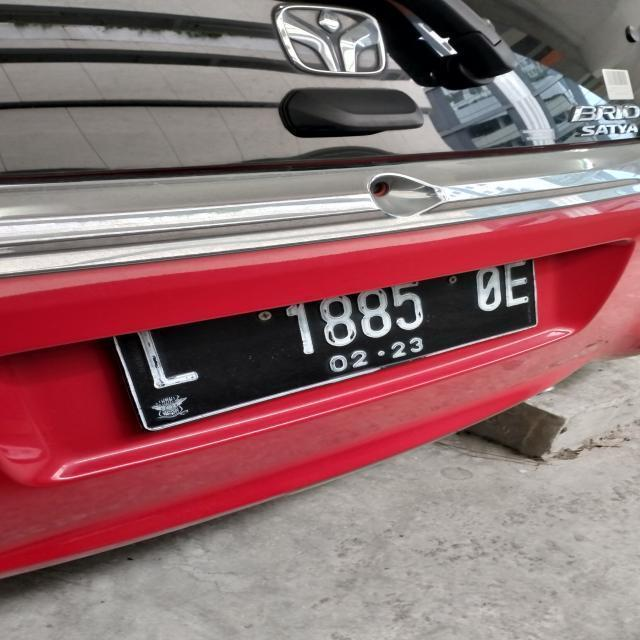1: (276, 306, 316, 355)
5: (393, 280, 427, 334)
8: (354, 286, 392, 342), (320, 296, 360, 346)
E: (504, 260, 532, 308)
L: (129, 331, 209, 387)
O: (464, 266, 503, 311)
